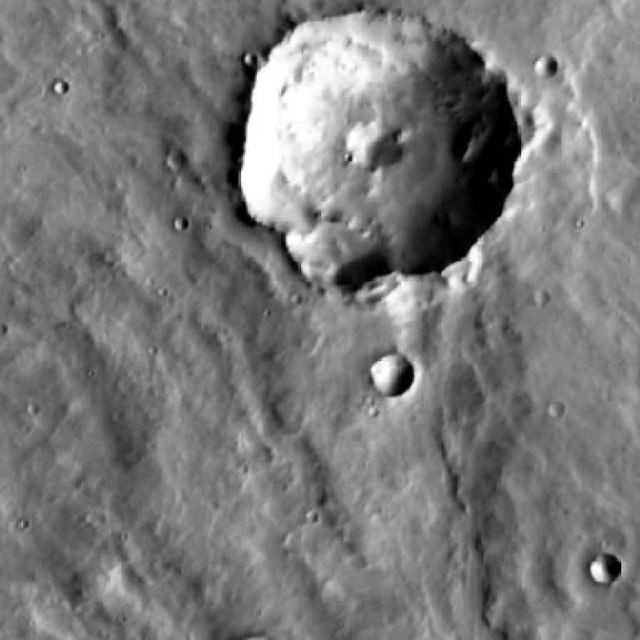crater: (240, 6, 518, 280), (278, 203, 373, 297), (371, 350, 414, 393), (588, 550, 617, 579), (535, 58, 557, 80), (168, 154, 185, 172), (547, 402, 564, 420)
